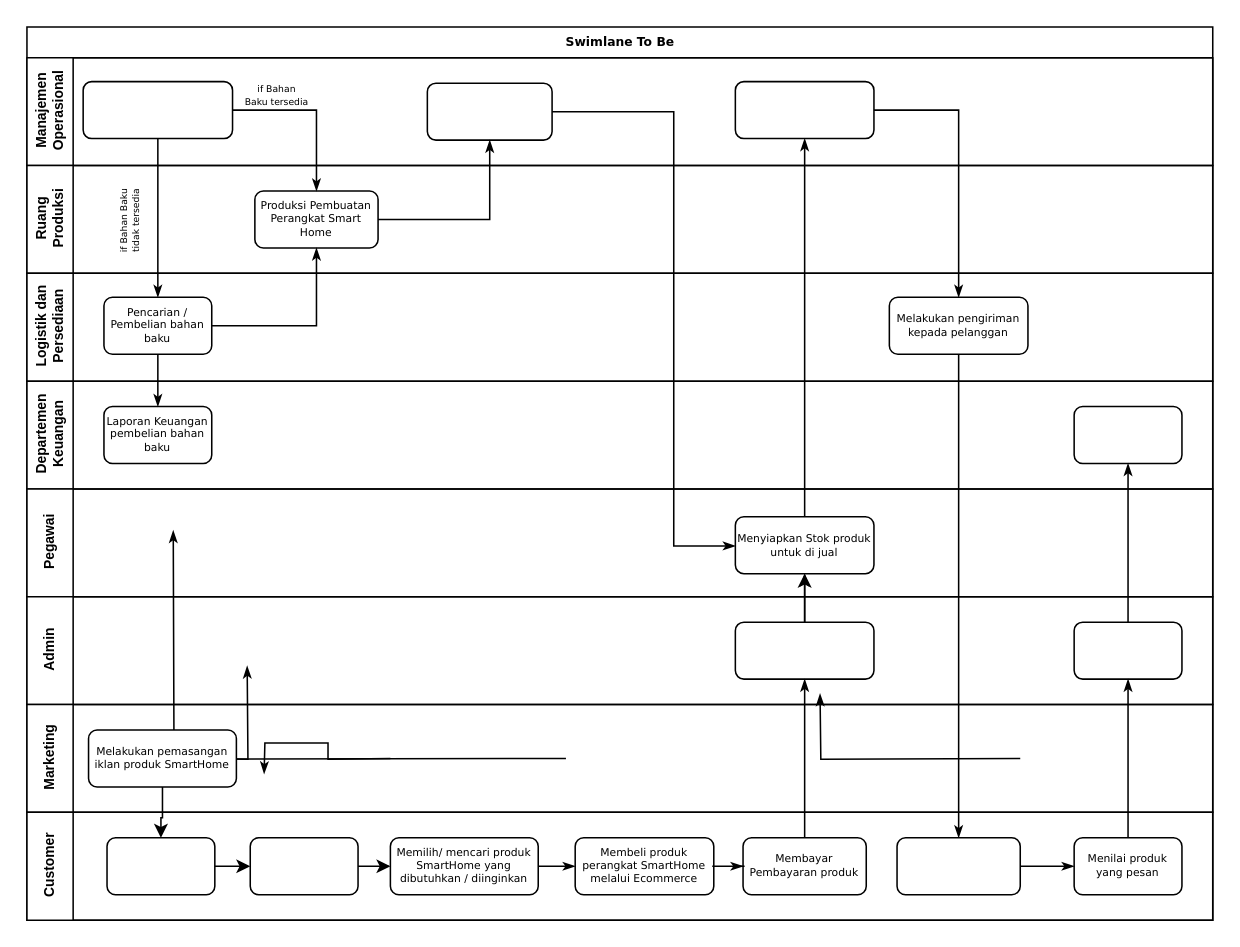
Image size: 1240x947. Some labels were removed from this diagram. Here are the shapes that lost their labels. From the top down, the centre of each, then its label:
At point 157,109: "Perencanaan persediaan / Model Smart Home".
At point 489,111: "Pengecekan Produk / Test QC".
At point 804,109: "Menyiapkan pesanan Pelanggan".
At point 1127,434: "Melaporkan keuangan hasil penjualan".
At point 804,650: "Menerima pesanan Pelanggan".
At point 1127,650: "Menerima penilaian pelanggan".
At point 160,865: "Tertarik dengan iklan produk SmartHome".
At point 303,865: "Mengunjungi Web / Ecommerce ZPA SmartHome".
At point 958,865: "Menerima produk yang dipesan".
